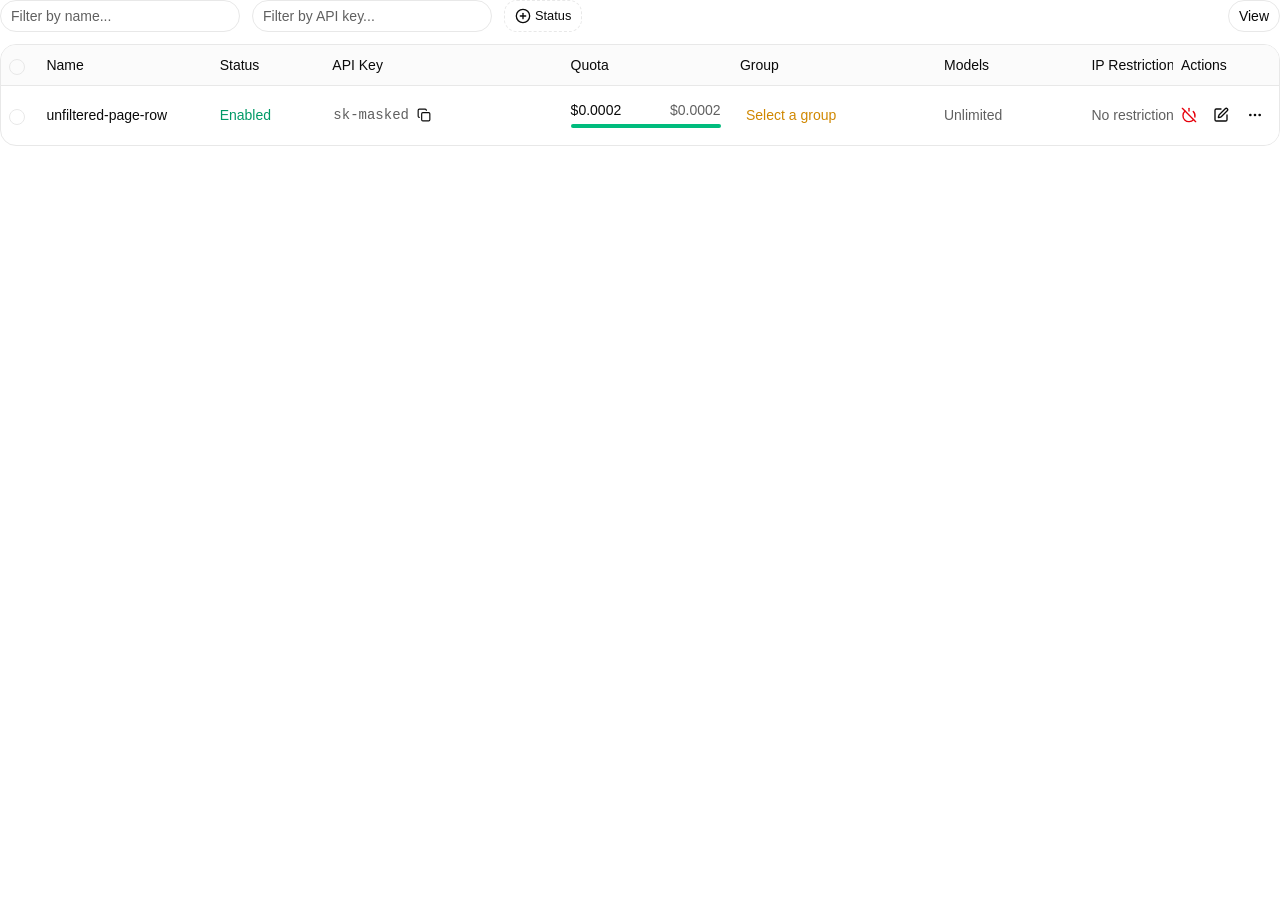
Test case: requests server status on page one and refreshes after disabling a derived expired key
expect the text "unfiltered-page-row" is shown: met, box left=46, top=107, right=167, bottom=123
Click the button "Status" at (543, 16), box left=504, top=0, right=582, bottom=32
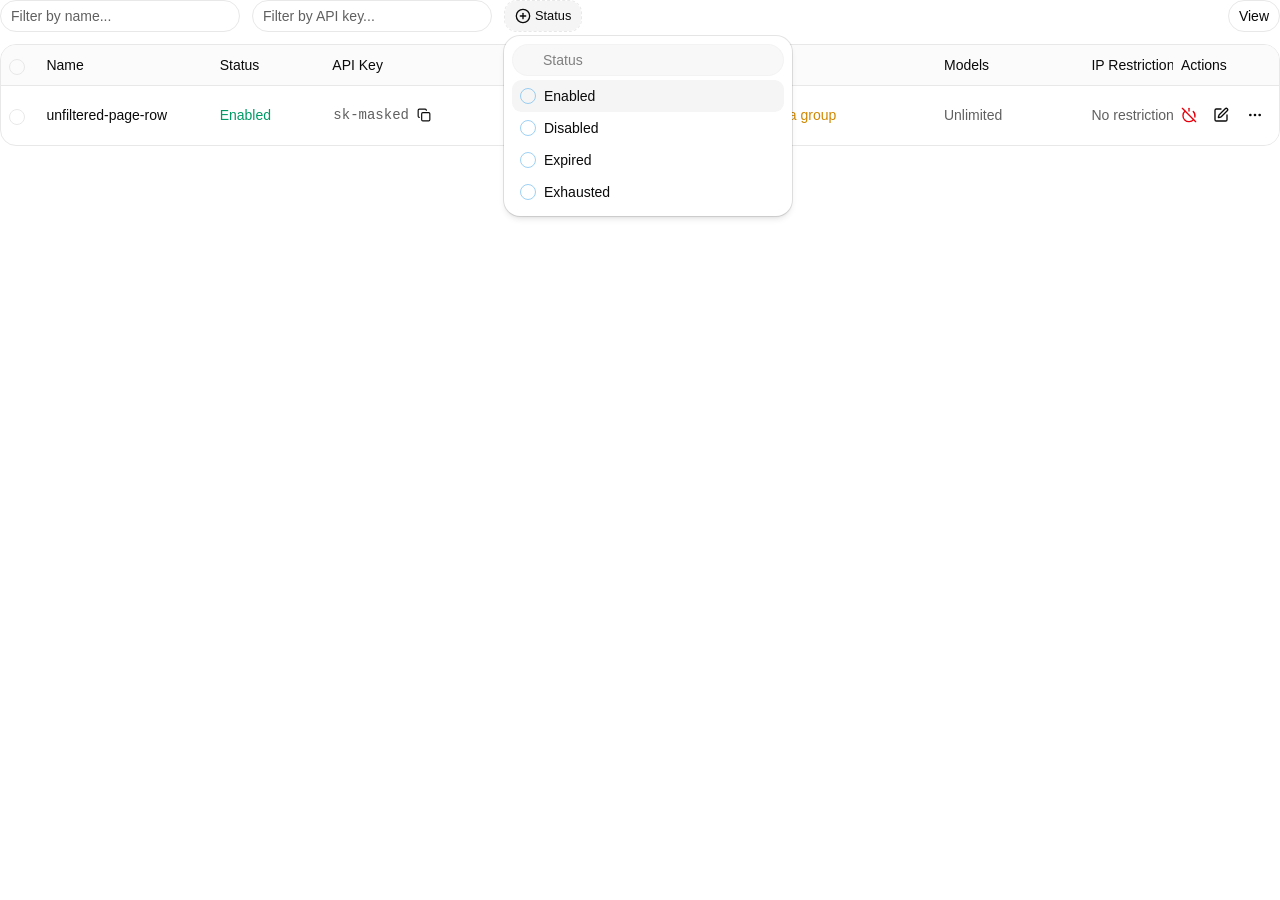
Click the option "Expired" at (556, 160), box left=520, top=152, right=592, bottom=168
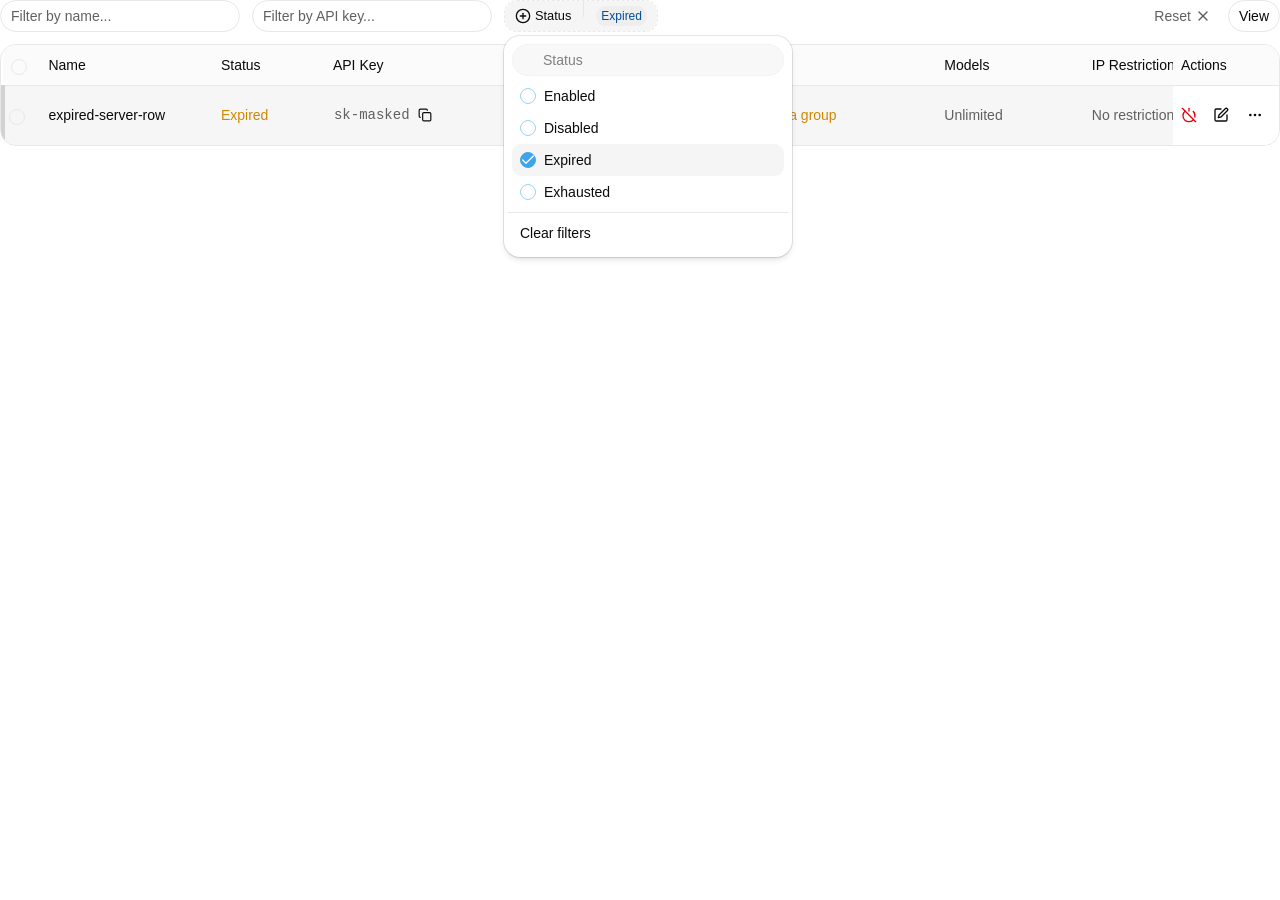
expect the text "expired-server-row" is shown: met, box left=48, top=107, right=165, bottom=123
Click the button named "Disable" at (1189, 115), box left=1175, top=101, right=1203, bottom=129
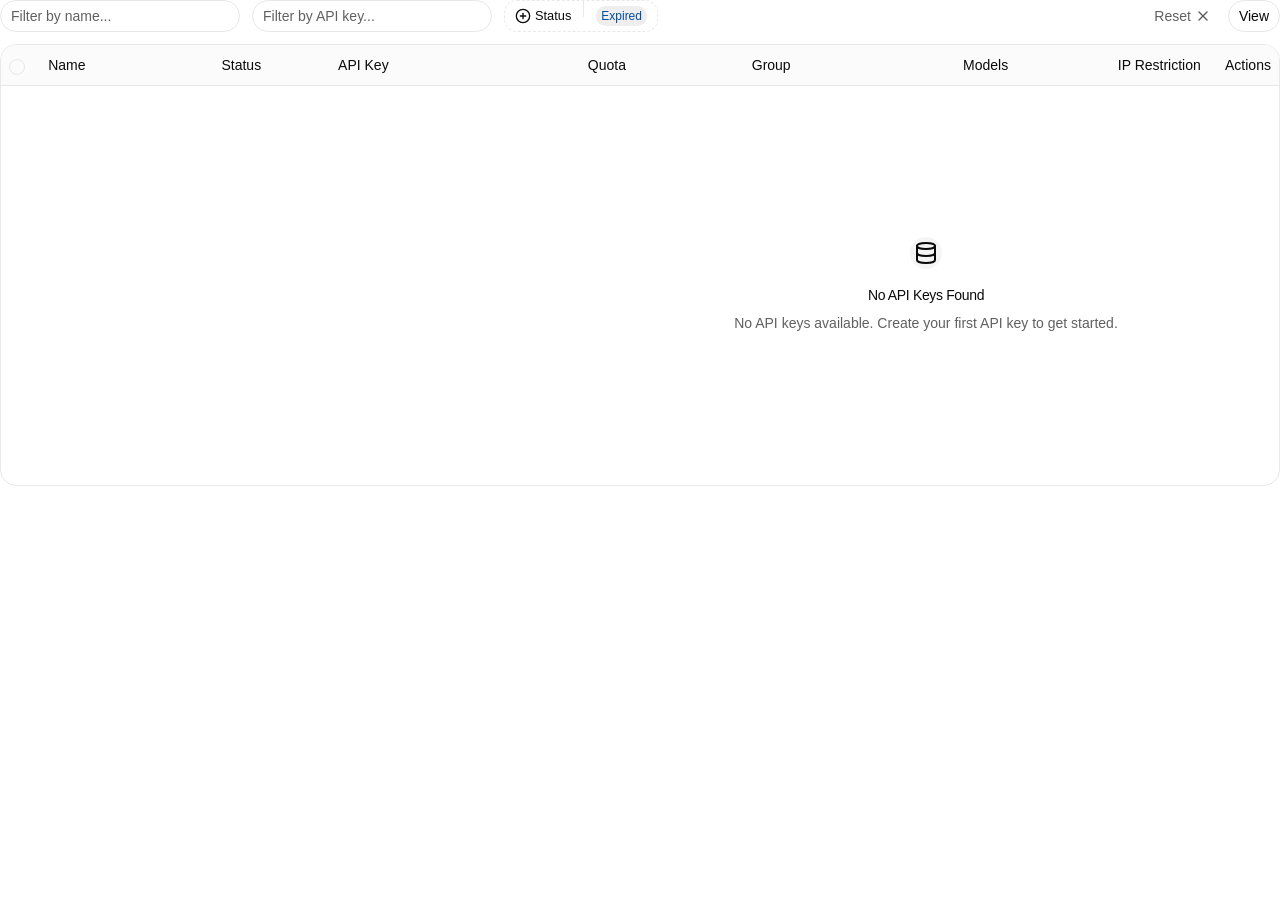
expect the text "expired-server-row" is gone: met
